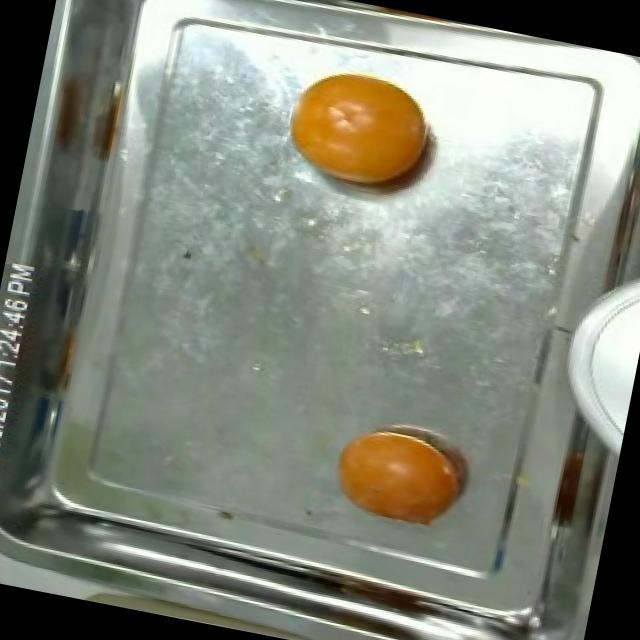Fruit: (271, 58, 453, 210), (318, 414, 478, 540)
